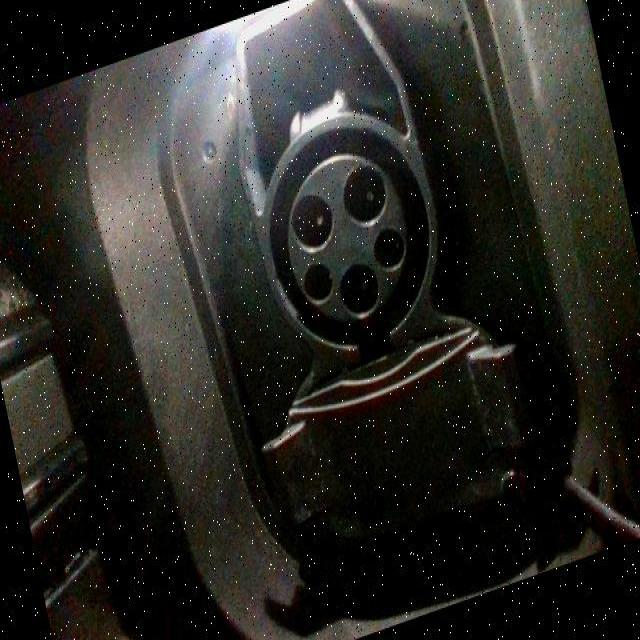Type 1: (277, 132, 432, 344)
